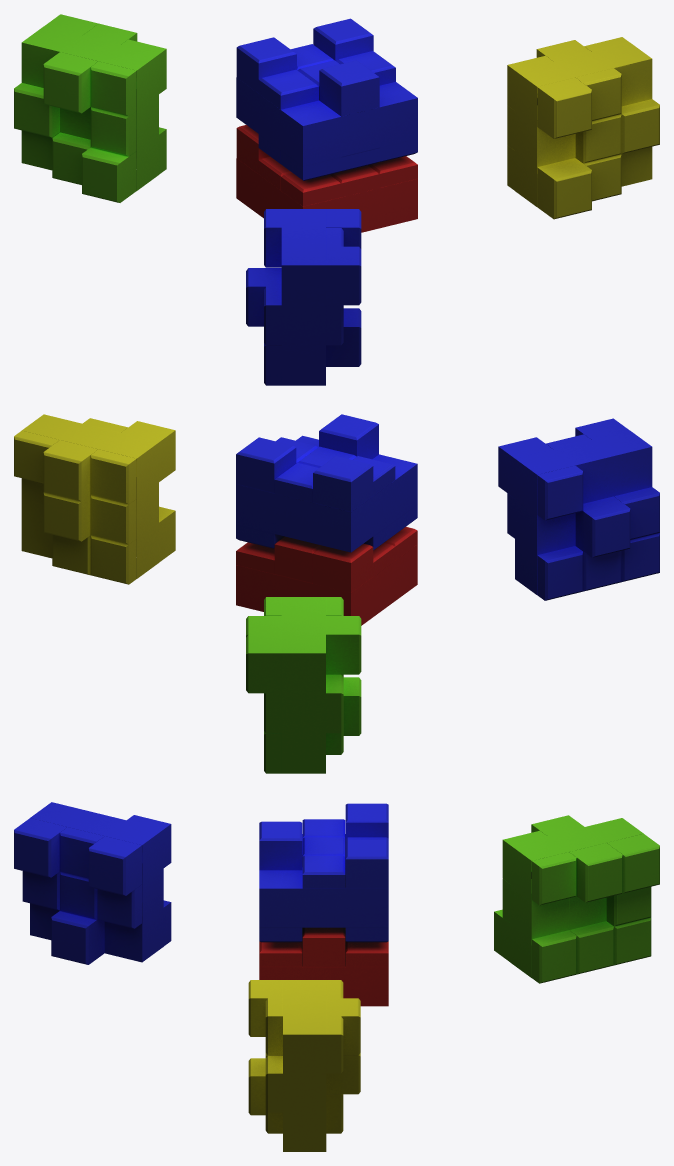
Rendered from stage_2_lightmap.obj.
The picture shows the model from 3 angles, top to bottom: view 1: azimuth 30°, elevation 25°; view 2: azimuth 150°, elevation 25°; view 3: azimuth 270°, elevation 25°; orthographic projection. The views are drawn at different scales.
Visible parts, largest first — view 1: stage_2_stage_2_stage_2; view 2: stage_2_stage_2_stage_2; view 3: stage_2_stage_2_stage_2.
Boxes of the visible parts, left/top/right/bottom form: stage_2_stage_2_stage_2: left=14, top=14, right=659, bottom=385; stage_2_stage_2_stage_2: left=14, top=414, right=659, bottom=773; stage_2_stage_2_stage_2: left=14, top=802, right=659, bottom=1151.
Bounding box in the file's own units: 65.37 × 22.71 × 74.87.
1 material, 1 textured.
